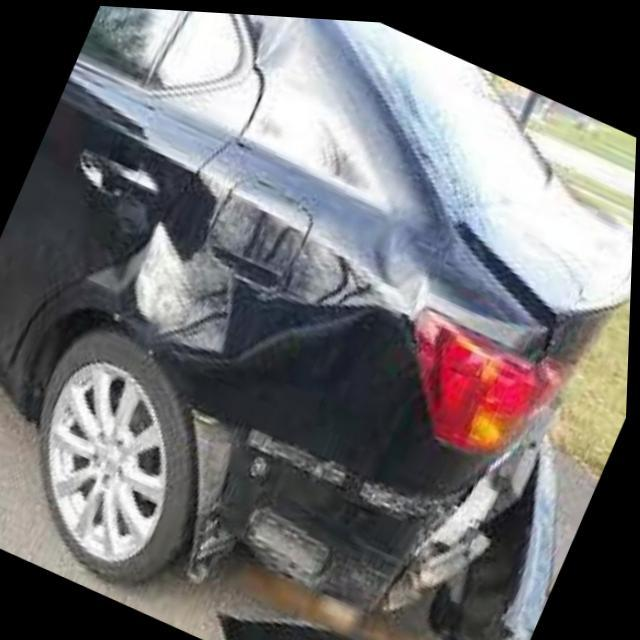dent: (59, 13, 569, 389)
dislocated part: (193, 407, 560, 640)
